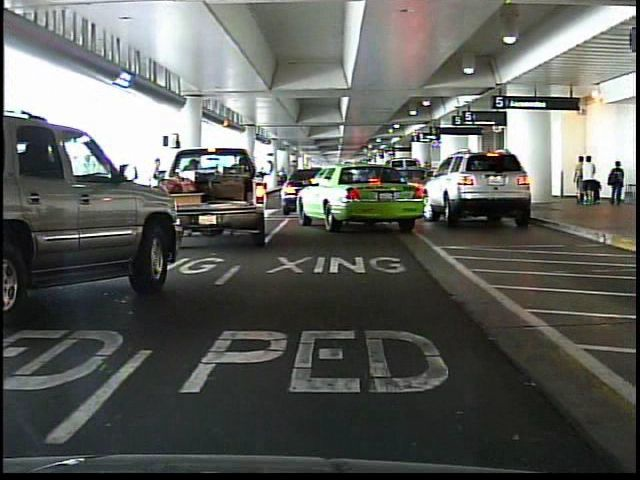person: (146, 155, 173, 218), (606, 160, 630, 206), (580, 154, 598, 209), (573, 157, 586, 206)
